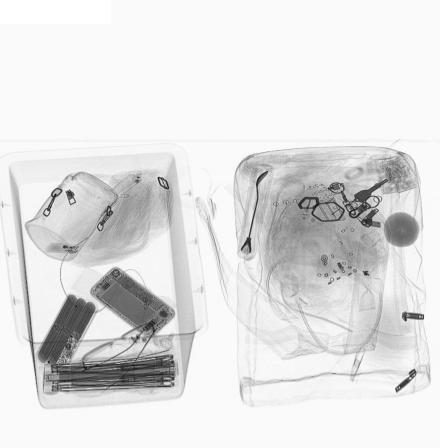Lighter: (42, 243, 85, 255)
